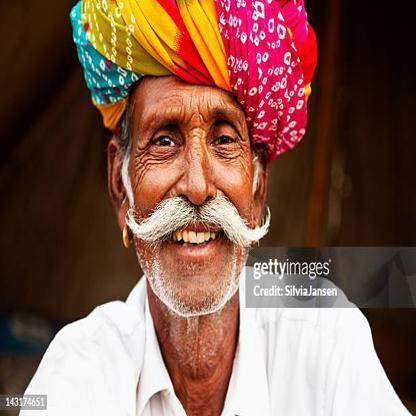person: (23, 1, 415, 416)
